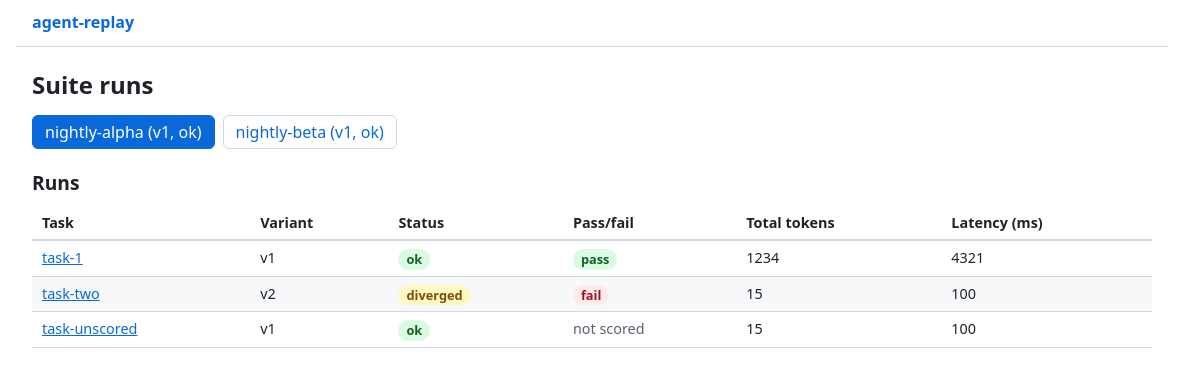
Test: RunsPage › only shows runs of the selected suite, and following a suite link switches suites
Expected: the link "task-1" is shown, 42,248 -> 83,267
Expected: the row "task-1 v1 ok pass 1234 4321" is shown, 32,240 -> 1152,276
Click the link "nightly-beta (v1, ok)": (310, 132) 222,115 -> 397,149
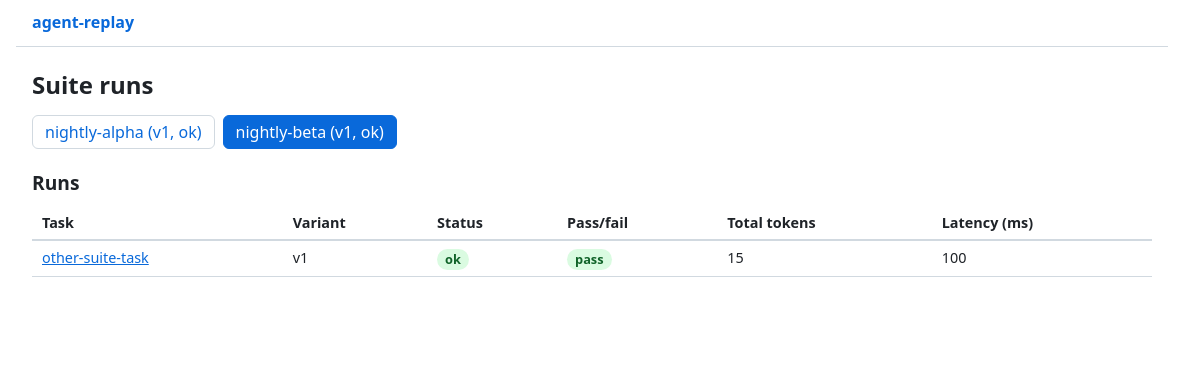
Expected: the link "other-suite-task" is shown, 42,248 -> 149,267
Expected: the row "other-suite-task v1 ok pass 15 100" is shown, 32,240 -> 1152,276
Expected: the link "task-two" is gone
